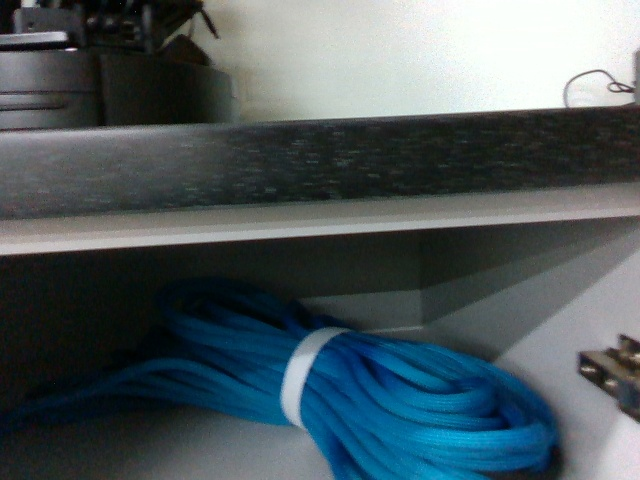rope: (135, 296, 557, 480)
